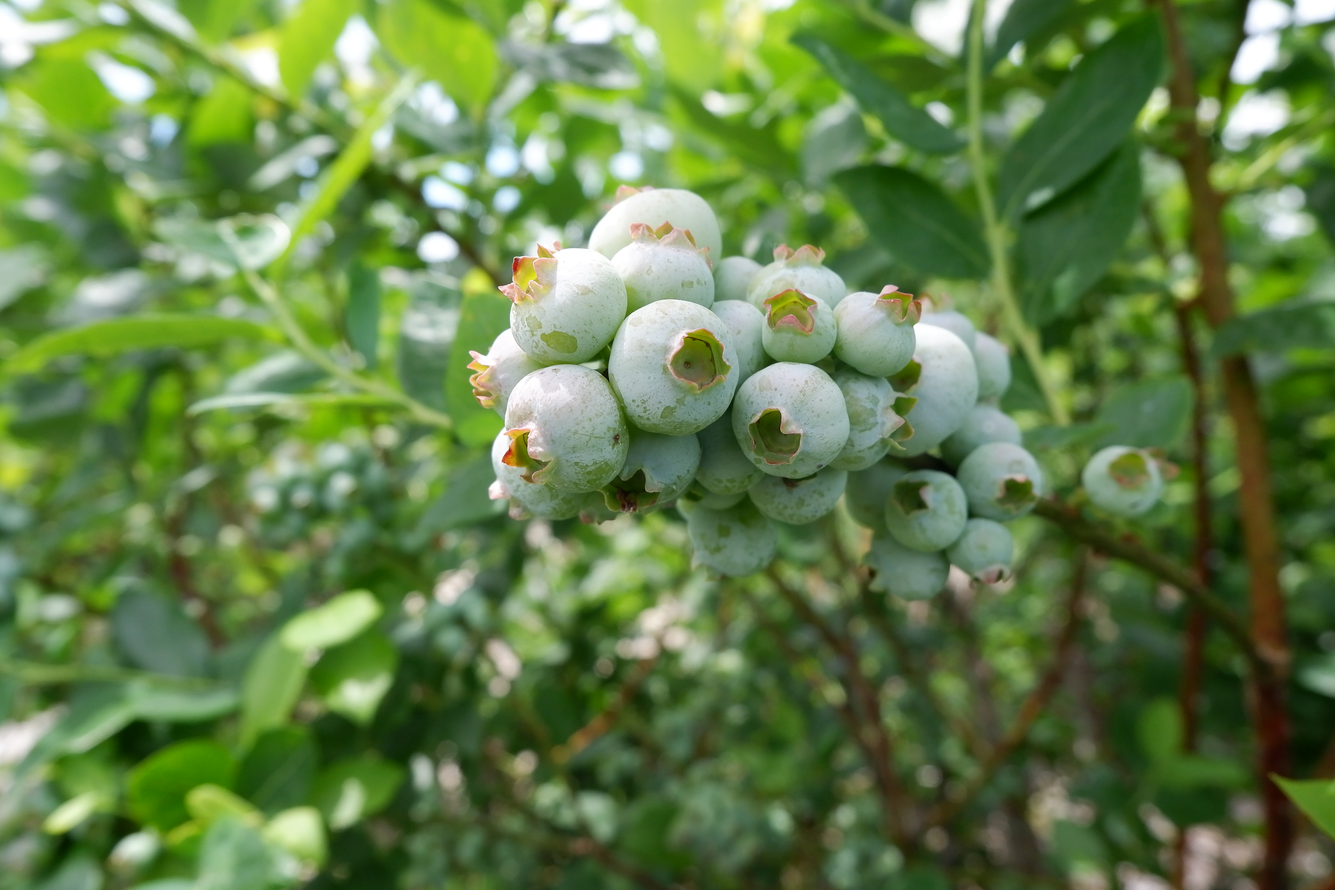Immature: (609, 300, 737, 432), (502, 362, 628, 496), (506, 249, 627, 363), (733, 363, 847, 476), (894, 326, 977, 452), (587, 185, 719, 257), (829, 363, 916, 471), (610, 228, 713, 311), (492, 432, 588, 518), (885, 468, 973, 554), (834, 288, 920, 375), (684, 496, 778, 575), (859, 525, 950, 600), (688, 411, 758, 507), (616, 427, 698, 508), (466, 330, 540, 419), (961, 445, 1041, 522), (746, 249, 844, 311), (1085, 449, 1174, 513), (753, 465, 846, 522), (763, 291, 835, 363), (712, 300, 769, 386), (846, 456, 912, 528), (944, 406, 1023, 466), (949, 518, 1013, 592), (916, 290, 977, 359), (972, 332, 1010, 400), (712, 258, 764, 303)
